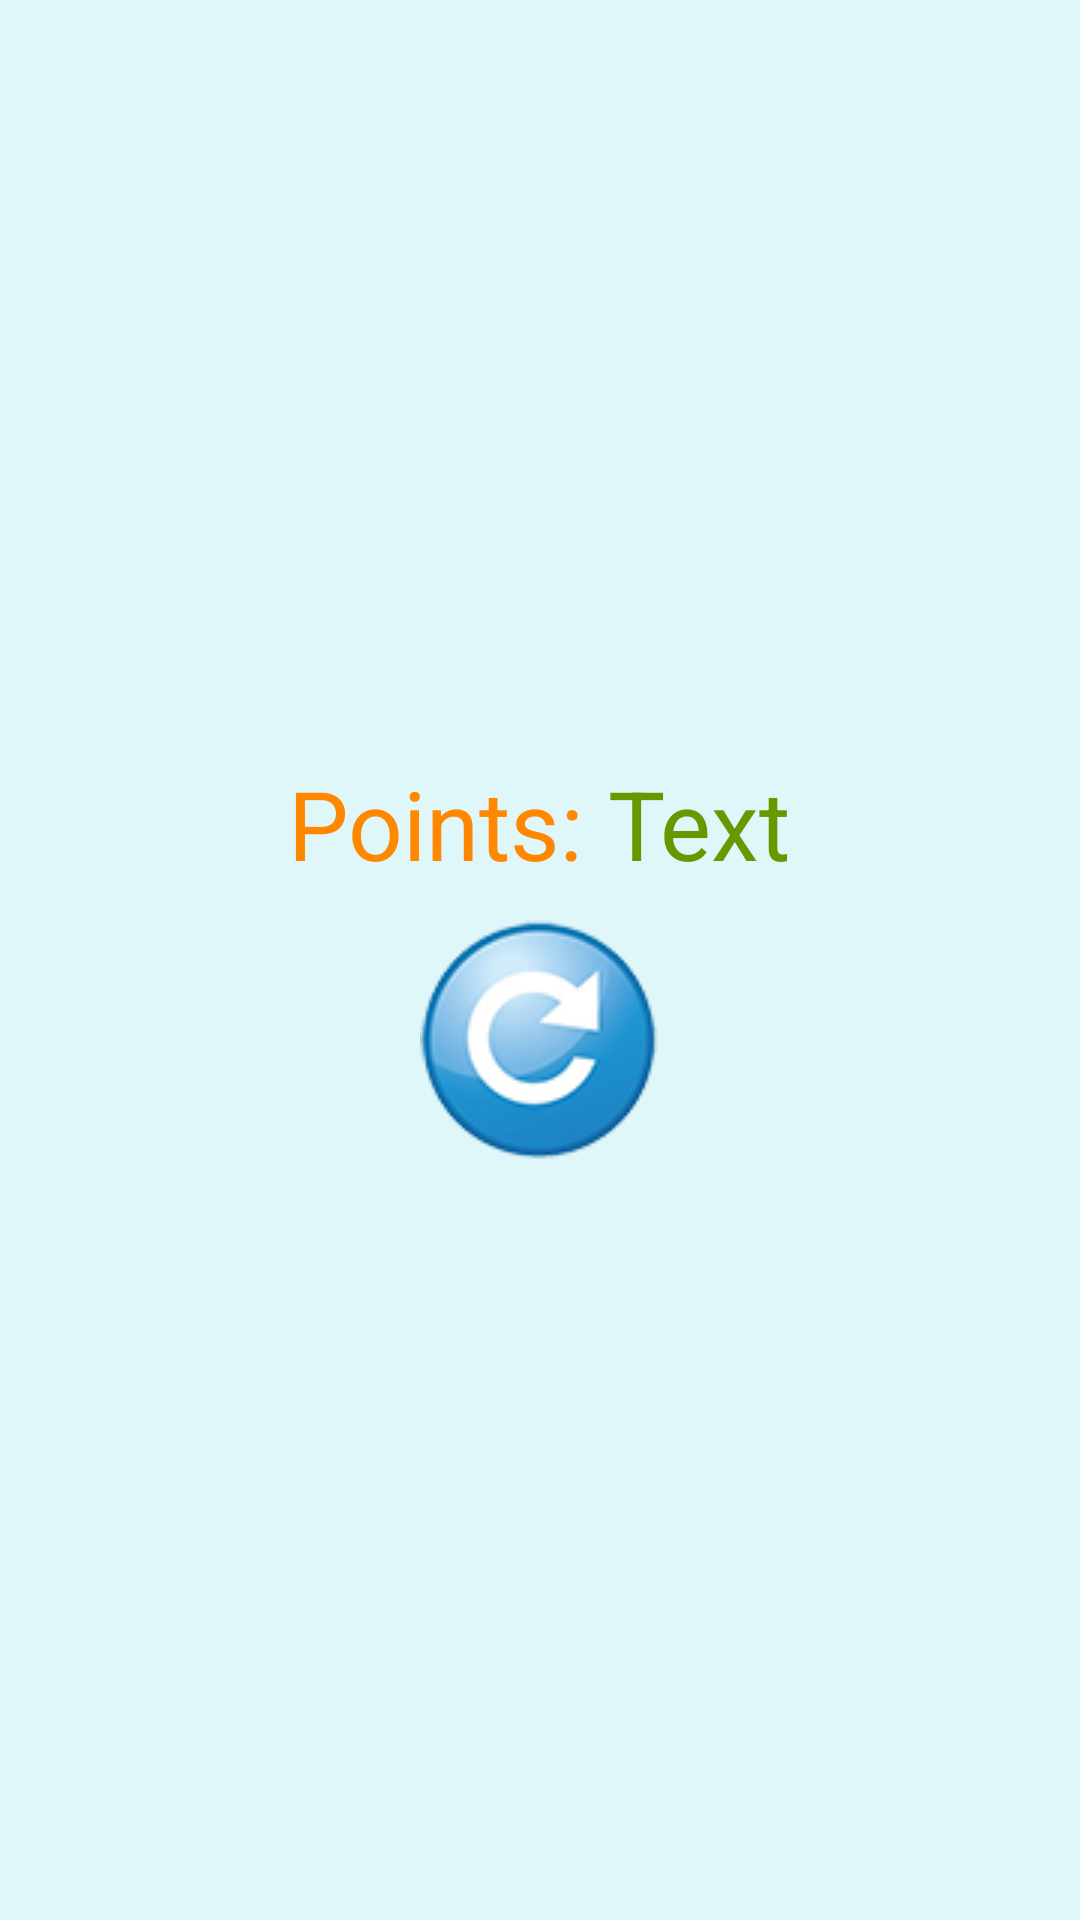

Icon click points for this 1080 x 1920 phone screenshot, format (x,y):
restart: (538,1040)
